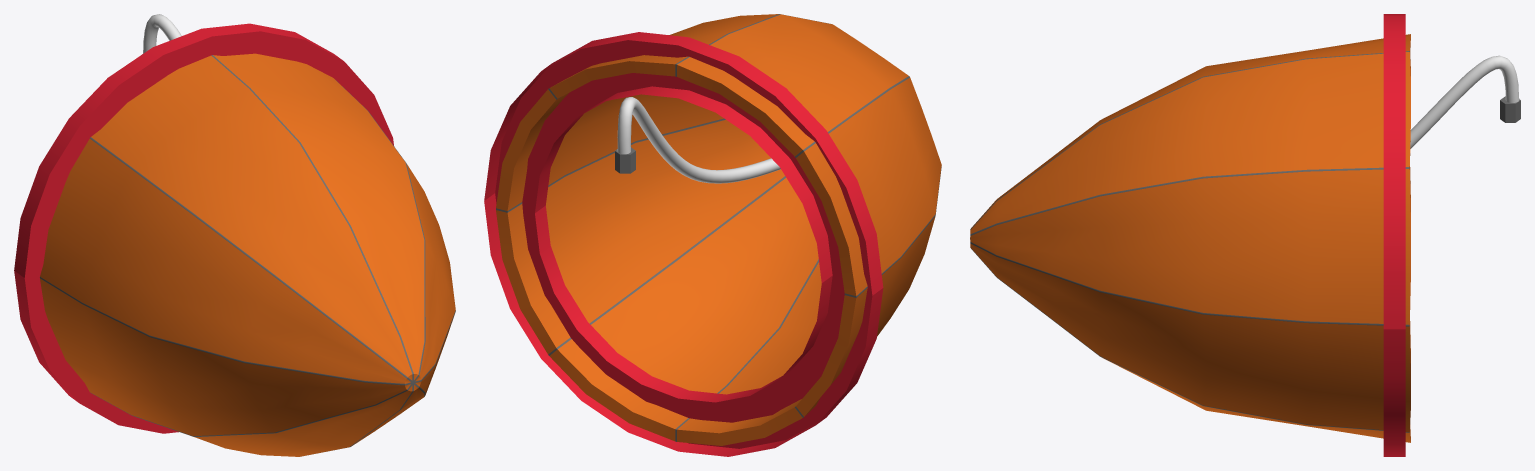
File: Stozek_2.fbx
3 renders of one model, left to right at view 1: azimuth 30°, elevation 25°; view 2: azimuth 150°, elevation 25°; view 3: azimuth 270°, elevation 25°, orthographic. The views are drawn at different scales.
Visible parts, largest first — view 1: Cylinder.004, Cylinder.002, cable.003; view 2: Cylinder.004, Cylinder.002, cable.003; view 3: Cylinder.004, Cylinder.002, cable.003.
Boxes of the visible parts, left/top/right/bottom form: Cylinder.004: left=40, top=53, right=455, bottom=456; Cylinder.002: left=14, top=23, right=393, bottom=433; cable.003: left=143, top=14, right=181, bottom=53; Cylinder.004: left=496, top=14, right=941, bottom=445; Cylinder.002: left=484, top=32, right=883, bottom=456; cable.003: left=617, top=97, right=780, bottom=183; Cylinder.004: left=970, top=34, right=1410, bottom=442; Cylinder.002: left=1383, top=14, right=1405, bottom=456; cable.003: left=1410, top=55, right=1519, bottom=148.
Size of the model in its own units: 110 by 110 by 136.
